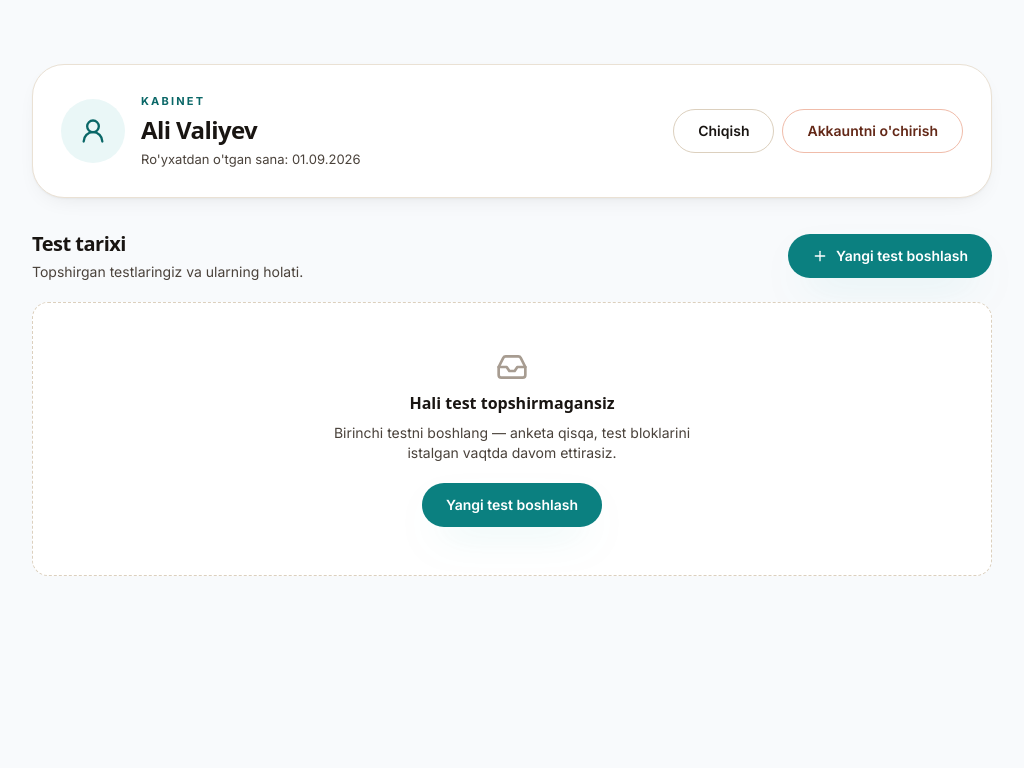
AccountPage › akkauntni o'chirish tasdiqsiz bajarilmaydi va oqibatlari yozilgan
expect the text "Hali test topshirmagansiz" is shown: met, box [409,391,615,415]
Click the button "Akkauntni o'chirish".
click(873, 131)  # box [782,109,963,153]
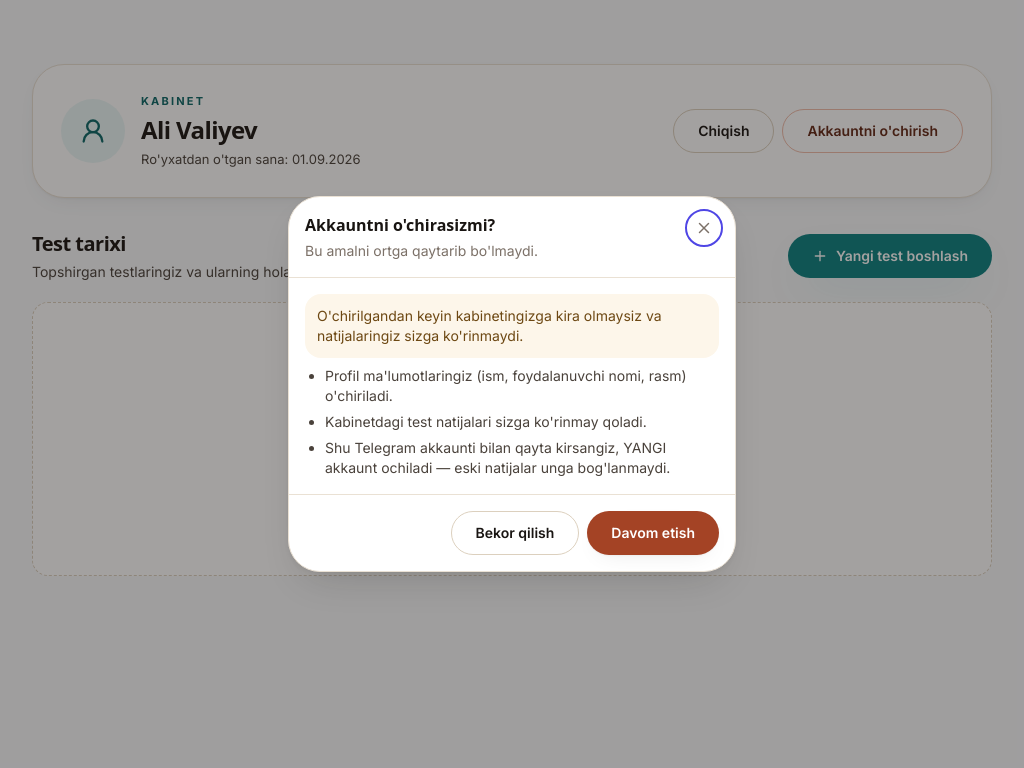
expect the heading "Akkauntni o'chirasizmi?" is shown: met, box [305,214,495,236]
expect the list item "YANGI akkaunt ochiladi" is shown: met, box [325,439,670,476]
